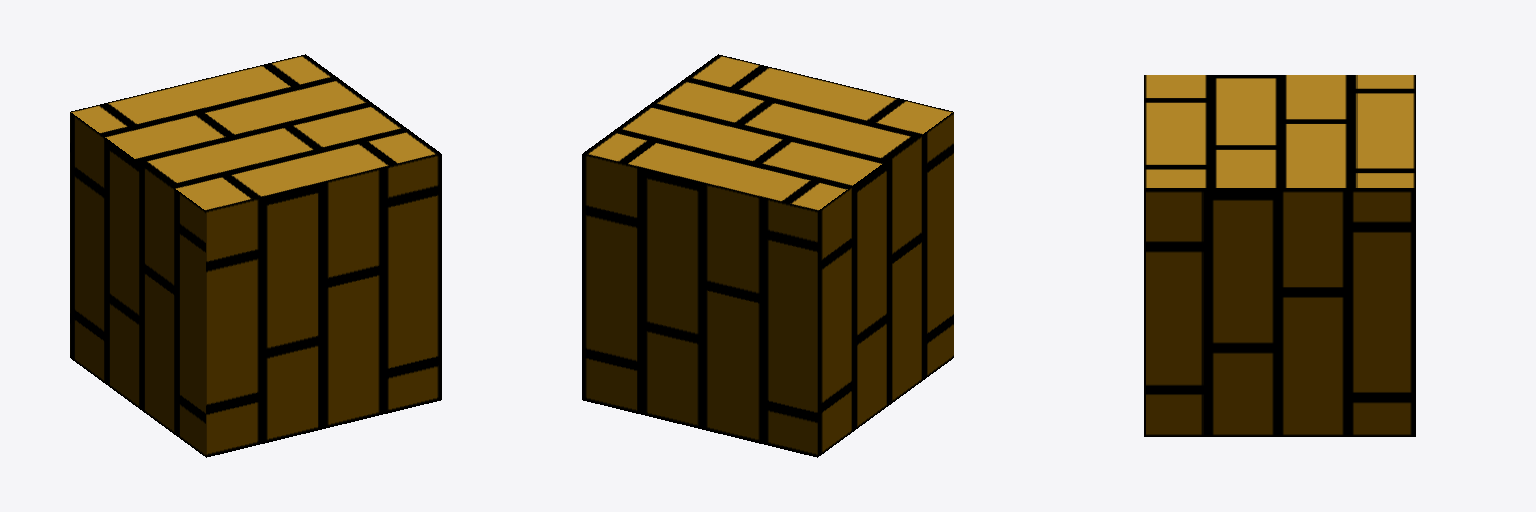
3 views of the same model, side by side, from view 1: azimuth 30°, elevation 25°; view 2: azimuth 150°, elevation 25°; view 3: azimuth 270°, elevation 25° (orthographic).
Visible parts, largest first — view 1: Cube; view 2: Cube; view 3: Cube.
Boxes of the visible parts, x1,y1,x2,y2 form: Cube: [70, 54, 441, 457]; Cube: [582, 54, 953, 457]; Cube: [1144, 75, 1415, 436].
Size of the model in its own units: 2 by 2 by 2.
Materials: 1 (1 with a texture image).